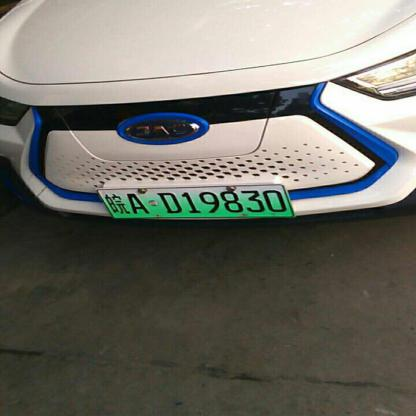lp: (96, 184, 294, 219)
